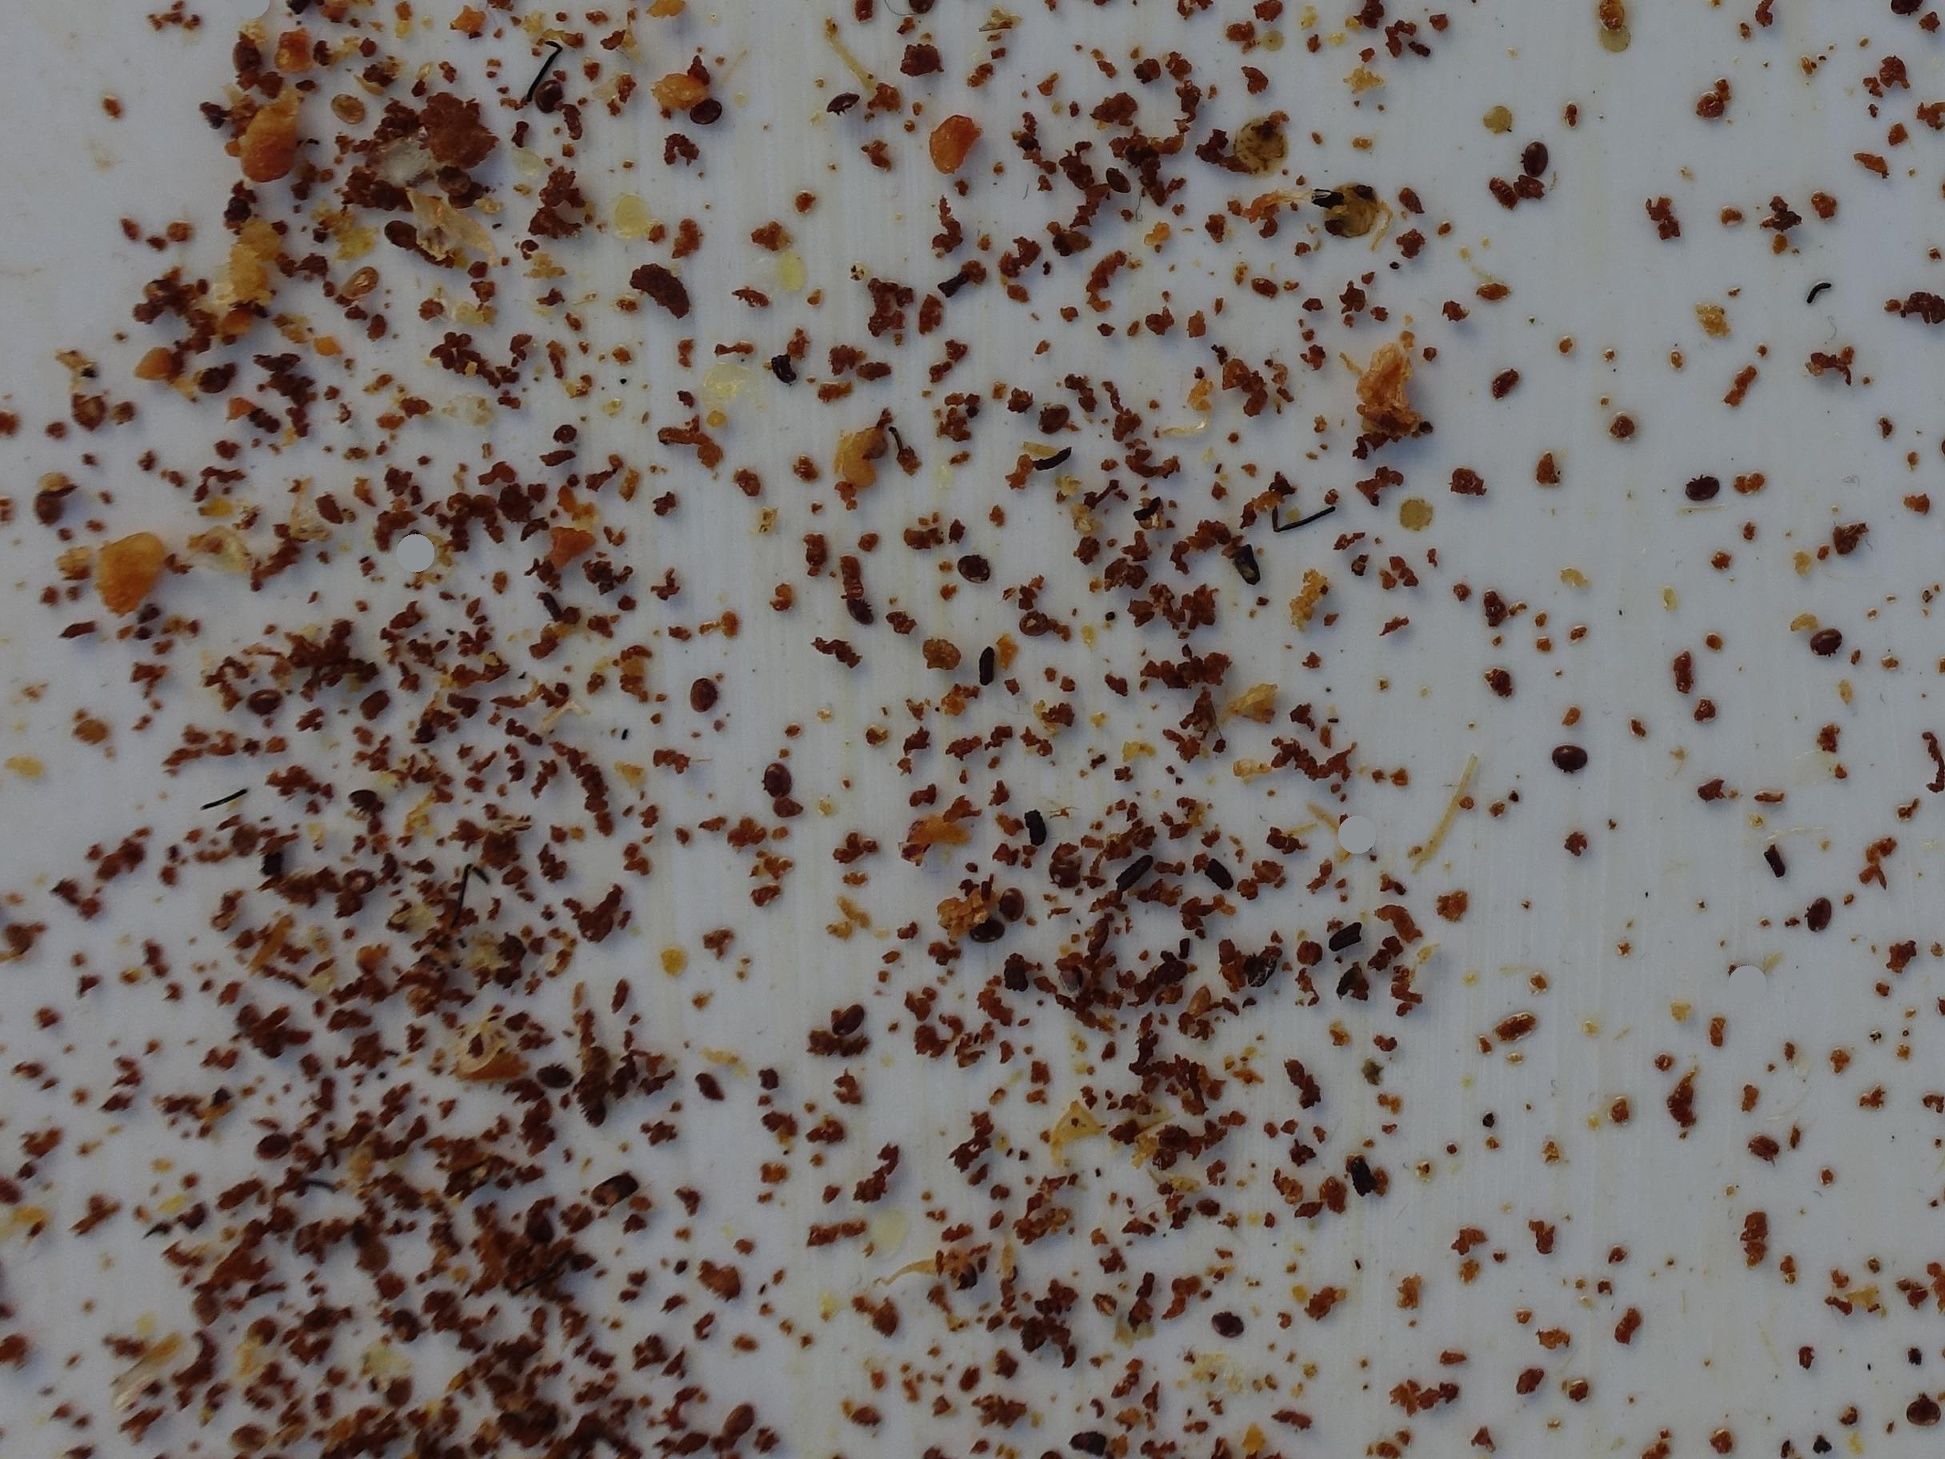Varroa: (969, 913, 1009, 952), (1009, 1316, 1047, 1356), (1042, 855, 1081, 893), (1151, 953, 1189, 992), (333, 87, 363, 120), (391, 1309, 421, 1339), (1522, 146, 1551, 176), (544, 1062, 573, 1093), (573, 1090, 602, 1120), (690, 95, 719, 124), (346, 867, 374, 898), (690, 682, 717, 710), (388, 219, 415, 247), (1045, 403, 1073, 431), (198, 368, 225, 395), (1162, 1122, 1189, 1149), (1806, 903, 1832, 930), (261, 1137, 287, 1165), (1002, 884, 1028, 912), (959, 553, 986, 579), (766, 772, 792, 798), (852, 595, 878, 621), (1110, 172, 1136, 198), (1032, 619, 1058, 645), (841, 1008, 868, 1034), (1691, 477, 1715, 503), (1559, 743, 1583, 769), (353, 788, 379, 812), (1218, 1313, 1243, 1339), (831, 93, 855, 118), (1907, 1395, 1930, 1421), (242, 690, 265, 713), (536, 86, 558, 109), (1818, 625, 1839, 647)
